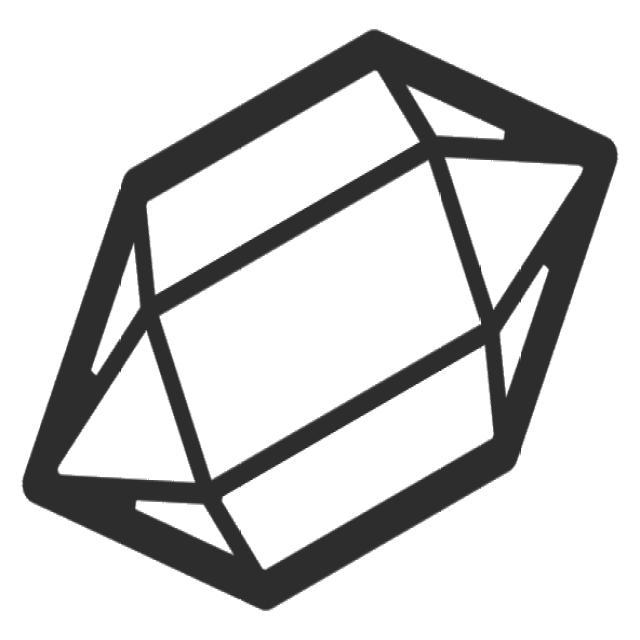crystal: (9, 21, 625, 625)
